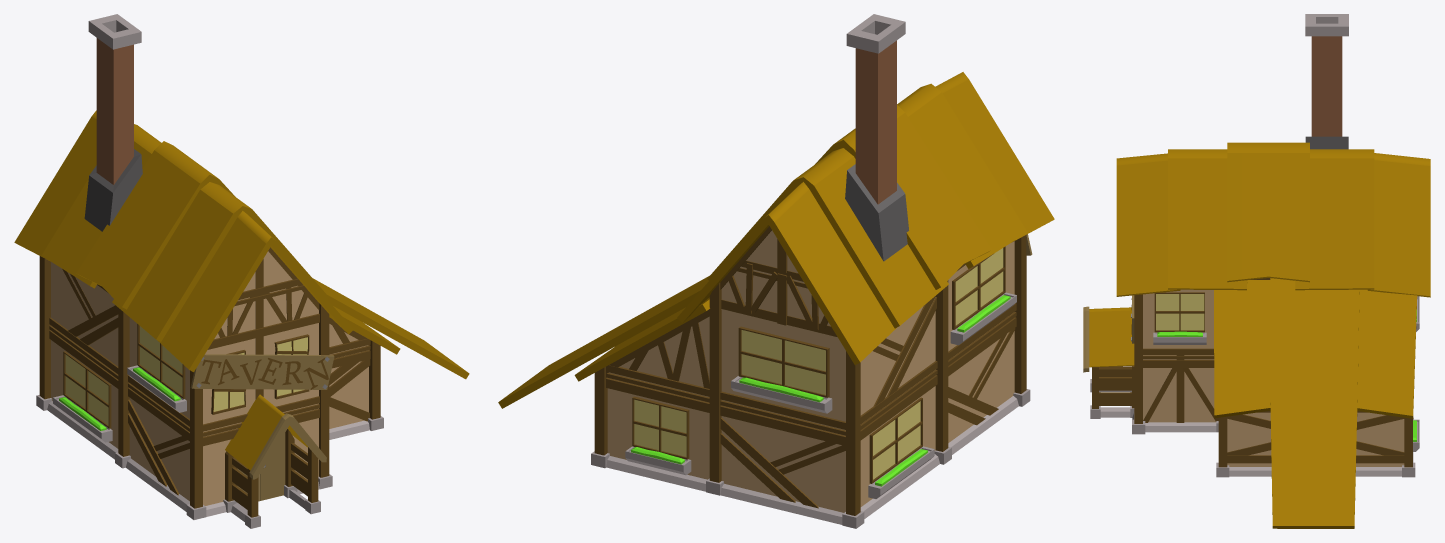
Rendered from mesh_Tavern.fbx.
3 views of the same model, side by side, from view 1: azimuth 30°, elevation 25°; view 2: azimuth 150°, elevation 25°; view 3: azimuth 270°, elevation 25° (orthographic). The views are drawn at different scales.
Visible parts, largest first — view 1: Tavern; view 2: Tavern; view 3: Tavern.
Part boxes in pixels (x1,y1,x2,y2): Tavern: (14,14,469,528); Tavern: (498,14,1054,528); Tavern: (1083,14,1430,528).
Bounding box in the file's own units: 1346 × 1412 × 1208.
1 material, 1 textured.
